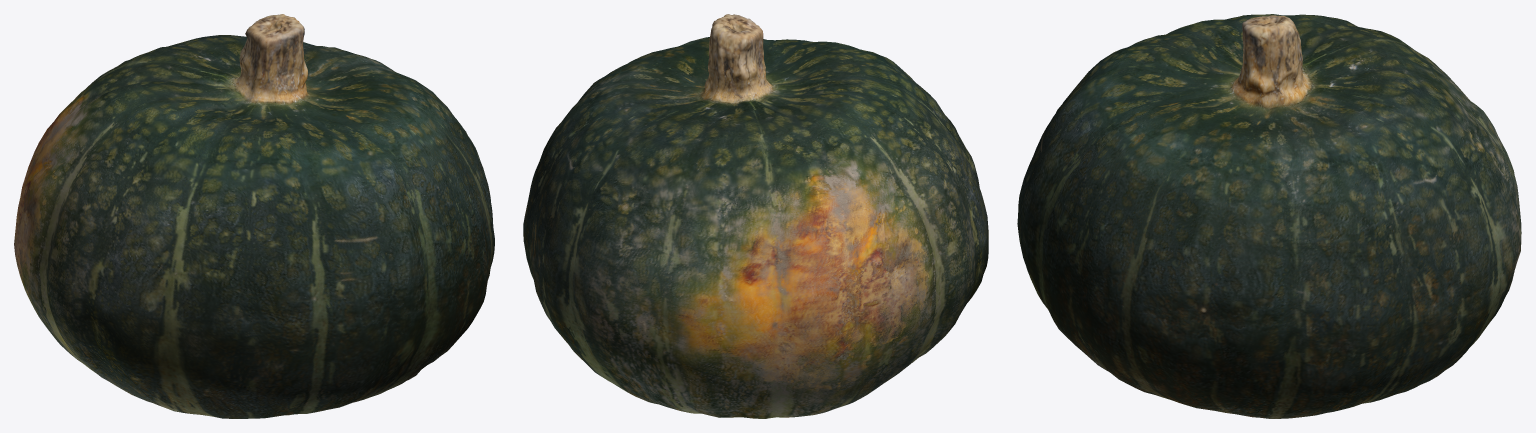
The model's file is SubDiv_1.fbx.
3 views of the same model, side by side, from view 1: azimuth 30°, elevation 25°; view 2: azimuth 150°, elevation 25°; view 3: azimuth 270°, elevation 25° (orthographic). The views are drawn at different scales.
Parts seen in each view (by area): view 1: SubDiv_3; view 2: SubDiv_3; view 3: SubDiv_3.
Part boxes in pixels (x1=…): SubDiv_3: x1=14, y1=14, x2=494, y2=418; SubDiv_3: x1=523, y1=14, x2=988, y2=418; SubDiv_3: x1=1017, y1=14, x2=1521, y2=418.
Size of the model in its own units: 19.06 by 15.46 by 19.38.
